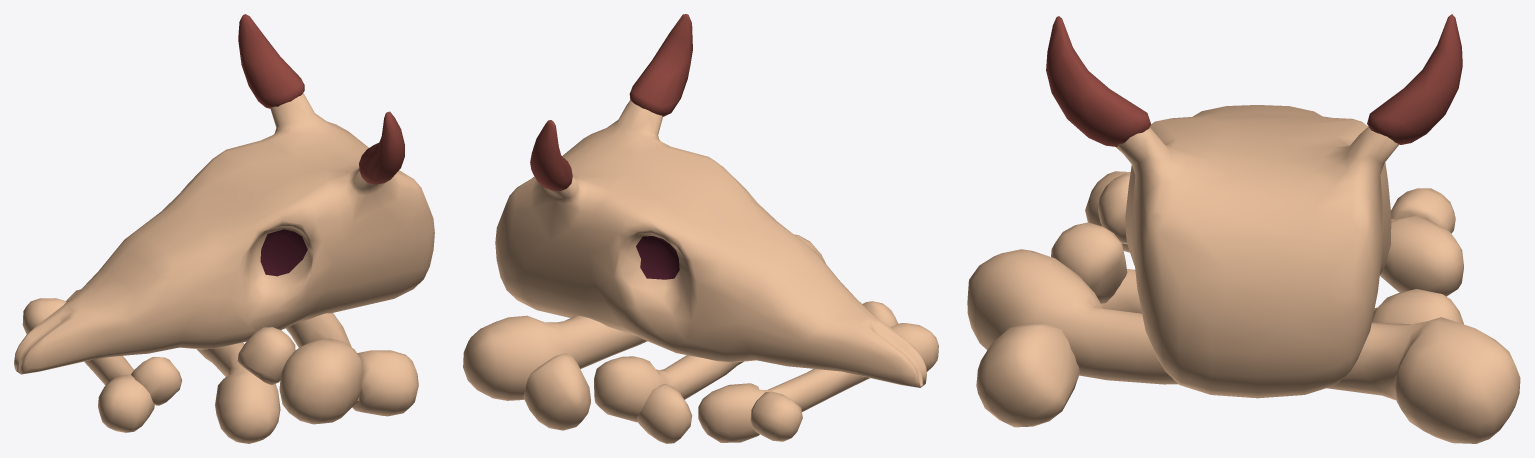
The model's file is CowSkull.fbx.
3 views of the same model, side by side, from view 1: azimuth 30°, elevation 25°; view 2: azimuth 150°, elevation 25°; view 3: azimuth 270°, elevation 25° (orthographic). The views are drawn at different scales.
Parts seen in each view (by area): view 1: CowSkull; view 2: CowSkull; view 3: CowSkull.
Boxes of the visible parts, x1,y1,x2,y2 form: CowSkull: (14,14,434,443); CowSkull: (463,14,938,443); CowSkull: (967,14,1520,443).
Size of the model in its own units: 48.4 by 35.15 by 41.31.
